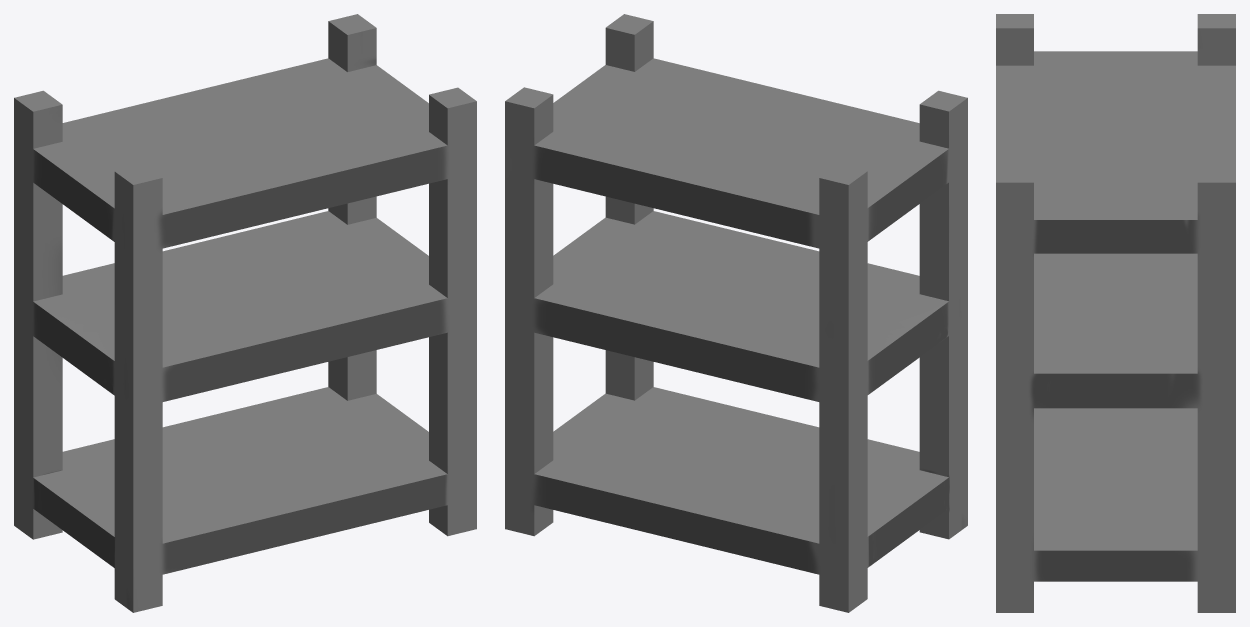
File: Anaquel_prefab.fbx
3 views of the same model, side by side, from view 1: azimuth 30°, elevation 25°; view 2: azimuth 150°, elevation 25°; view 3: azimuth 270°, elevation 25° (orthographic).
Visible parts, largest first — view 1: Cube; view 2: Cube; view 3: Cube.
Part boxes in pixels (x1,y1,x2,y2): Cube: (14, 14, 476, 612); Cube: (505, 14, 967, 612); Cube: (996, 14, 1235, 612).
Bounding box in the file's own units: 333 × 396 × 200.
1 material, 1 textured.
